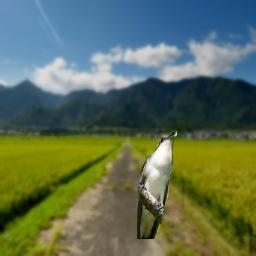Cuckoo: (137, 130, 177, 239)
